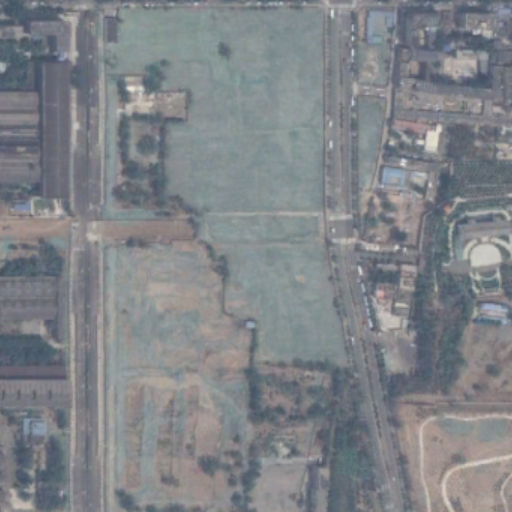cw: (96, 6, 339, 512), (358, 95, 386, 192), (357, 39, 390, 87)
